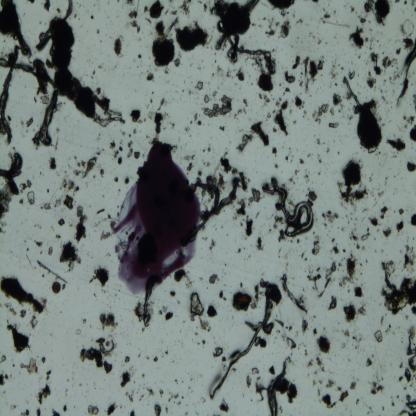Background material: (50, 19, 110, 120), (210, 0, 262, 47), (379, 260, 416, 314), (0, 275, 47, 313), (353, 97, 382, 155), (80, 335, 118, 374), (337, 162, 369, 202), (175, 19, 214, 51), (302, 54, 324, 94), (36, 259, 68, 286), (317, 259, 337, 300), (7, 323, 32, 355), (202, 94, 233, 119), (338, 252, 360, 287), (56, 241, 81, 271), (152, 38, 176, 69), (136, 294, 156, 330), (255, 60, 277, 90), (364, 0, 389, 26), (32, 60, 50, 96), (0, 194, 16, 232), (404, 325, 416, 373), (97, 308, 119, 334), (276, 379, 298, 404), (230, 289, 252, 314), (273, 102, 289, 136), (400, 17, 416, 50), (88, 264, 110, 288), (266, 0, 294, 18), (189, 291, 205, 322), (251, 121, 270, 146), (220, 151, 237, 178), (75, 204, 87, 242), (401, 244, 416, 272), (350, 25, 366, 50), (312, 101, 328, 126), (387, 134, 406, 153), (60, 175, 78, 195), (236, 133, 254, 153), (70, 156, 86, 178), (232, 96, 248, 118), (37, 382, 52, 405), (20, 356, 38, 375), (262, 16, 280, 35), (245, 187, 262, 206), (278, 18, 292, 41), (368, 53, 382, 76), (320, 208, 340, 224), (174, 266, 189, 287), (316, 334, 331, 354), (150, 1, 164, 22), (153, 110, 164, 136), (401, 395, 416, 414), (343, 303, 356, 324), (85, 156, 98, 177), (322, 392, 338, 409), (130, 108, 146, 125), (126, 142, 141, 160), (348, 231, 361, 251), (238, 170, 250, 191), (120, 370, 133, 389), (113, 36, 124, 58), (3, 301, 17, 318), (197, 316, 211, 333), (283, 68, 296, 86), (402, 365, 413, 386), (370, 378, 384, 394), (158, 306, 174, 320), (309, 271, 320, 291), (272, 213, 284, 231), (154, 21, 166, 39), (337, 383, 349, 401), (254, 334, 267, 350), (218, 397, 230, 414), (367, 70, 377, 90), (402, 113, 416, 127), (294, 94, 306, 110), (285, 335, 297, 351), (114, 145, 123, 166), (245, 217, 254, 238), (168, 394, 185, 405), (205, 304, 218, 318), (129, 20, 141, 35), (236, 198, 246, 216), (373, 329, 384, 345), (63, 194, 74, 210), (300, 316, 309, 335), (382, 54, 392, 71), (353, 284, 365, 298), (312, 235, 320, 256), (368, 215, 379, 230), (379, 204, 388, 222), (382, 224, 392, 240), (315, 356, 325, 372), (319, 12, 331, 25), (331, 92, 342, 106), (257, 92, 271, 103), (274, 315, 285, 329), (181, 1, 191, 16), (0, 372, 10, 387), (291, 55, 301, 70), (87, 402, 99, 414), (329, 295, 338, 311), (356, 305, 369, 316), (236, 68, 246, 82), (29, 315, 39, 329), (107, 402, 117, 416), (26, 190, 36, 204), (128, 8, 139, 20), (208, 273, 219, 285), (325, 377, 335, 390), (307, 189, 317, 202), (359, 231, 369, 244), (213, 345, 223, 358), (193, 112, 202, 126), (20, 180, 32, 190), (100, 232, 112, 242), (406, 161, 416, 173), (39, 202, 52, 211), (209, 236, 216, 252), (396, 220, 404, 234), (256, 236, 264, 250), (145, 72, 156, 82), (107, 140, 117, 151), (40, 95, 50, 106), (44, 59, 54, 70), (18, 308, 27, 320), (53, 197, 62, 209), (175, 52, 182, 67), (409, 126, 416, 141), (126, 390, 134, 403), (43, 0, 51, 13), (250, 366, 260, 376), (96, 206, 106, 216), (146, 387, 156, 397), (245, 375, 252, 389), (350, 379, 358, 391), (327, 120, 339, 128), (316, 153, 324, 165), (364, 356, 372, 368), (268, 364, 276, 376), (154, 403, 161, 416), (410, 212, 416, 227), (185, 162, 194, 172), (219, 291, 227, 302), (196, 80, 204, 91), (50, 408, 61, 416), (48, 157, 56, 168), (348, 69, 356, 80), (124, 354, 131, 366), (158, 386, 165, 398), (45, 369, 52, 381), (169, 7, 178, 16), (25, 118, 34, 127), (144, 16, 152, 26), (34, 239, 44, 247), (202, 146, 212, 154), (142, 4, 150, 14), (218, 124, 227, 132), (329, 105, 335, 117), (305, 360, 314, 368), (332, 244, 338, 256), (113, 174, 120, 184), (158, 99, 165, 109), (410, 305, 416, 316), (184, 155, 195, 161), (124, 177, 131, 186), (312, 328, 319, 337), (358, 17, 367, 24), (124, 0, 133, 7), (200, 336, 206, 346), (98, 168, 104, 178), (40, 354, 46, 364), (284, 87, 291, 95), (170, 290, 177, 298), (128, 408, 136, 415), (58, 218, 65, 226), (211, 90, 218, 98), (271, 126, 278, 134), (271, 147, 278, 155), (55, 233, 62, 241), (203, 3, 208, 14), (48, 245, 53, 256), (226, 68, 232, 77), (21, 410, 30, 416), (197, 168, 203, 177), (204, 94, 210, 103), (75, 329, 82, 336), (344, 330, 350, 338), (398, 208, 404, 216), (299, 158, 305, 166), (35, 408, 41, 416), (350, 5, 355, 14), (1, 354, 6, 363), (18, 197, 24, 204), (153, 356, 159, 363), (137, 53, 143, 60), (221, 356, 226, 364), (83, 316, 87, 326), (397, 45, 401, 55), (266, 111, 271, 119), (274, 163, 280, 169), (398, 376, 404, 382), (62, 283, 67, 290), (29, 0, 36, 4), (63, 403, 66, 412), (285, 156, 289, 161), (395, 0, 400, 4)
Cellulose filter fibre: (210, 282, 272, 400), (34, 0, 73, 49), (1, 43, 18, 145), (32, 89, 61, 147), (266, 361, 291, 414), (396, 41, 416, 107), (198, 182, 238, 215), (226, 37, 272, 60), (281, 273, 307, 312), (0, 154, 23, 195), (0, 57, 32, 76), (343, 77, 362, 106), (94, 112, 127, 128), (161, 18, 180, 40)
Diatom: (52, 282, 60, 294), (190, 184, 197, 192)
Fragment: (270, 288, 282, 303)
Pen: (114, 137, 193, 293)
